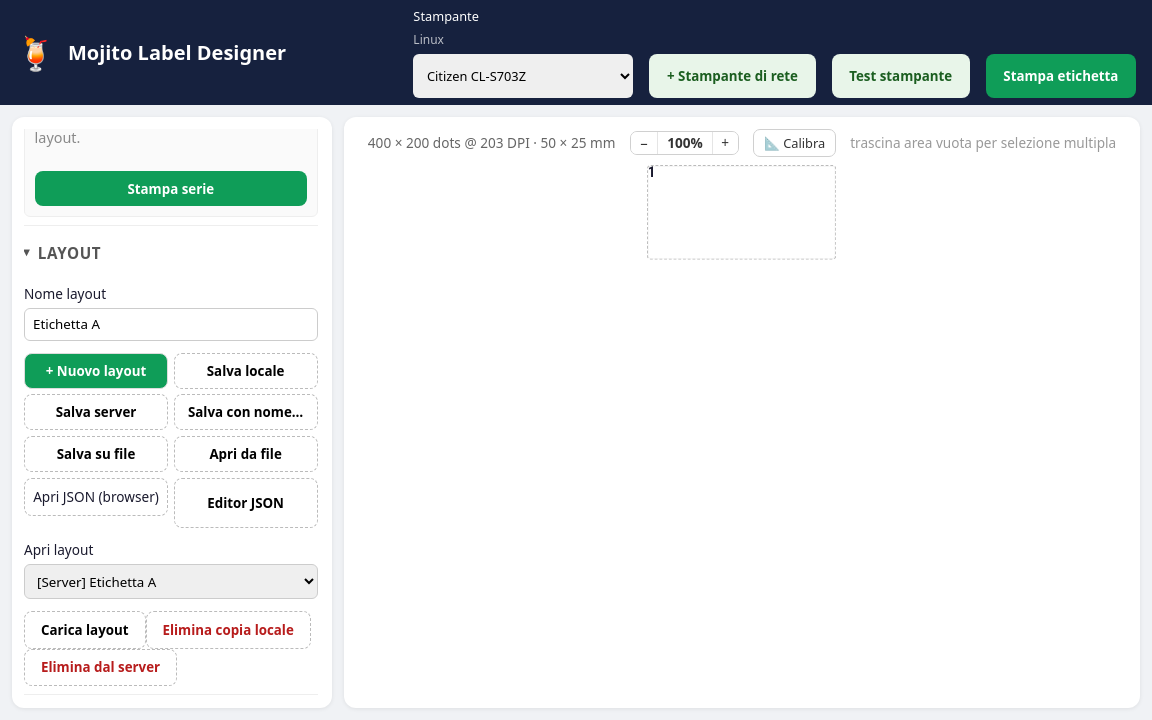
LabelDesigner — salvataggio senza sovrascrivere › "Salva con nome…" › propone un nome libero, salva una copia con identificativo nuovo e la apre
This screenshot has width=1152, height=720.
(page scrolled)
Click the button "Salva con nome…" at [246, 412], box [174,394,318,430]
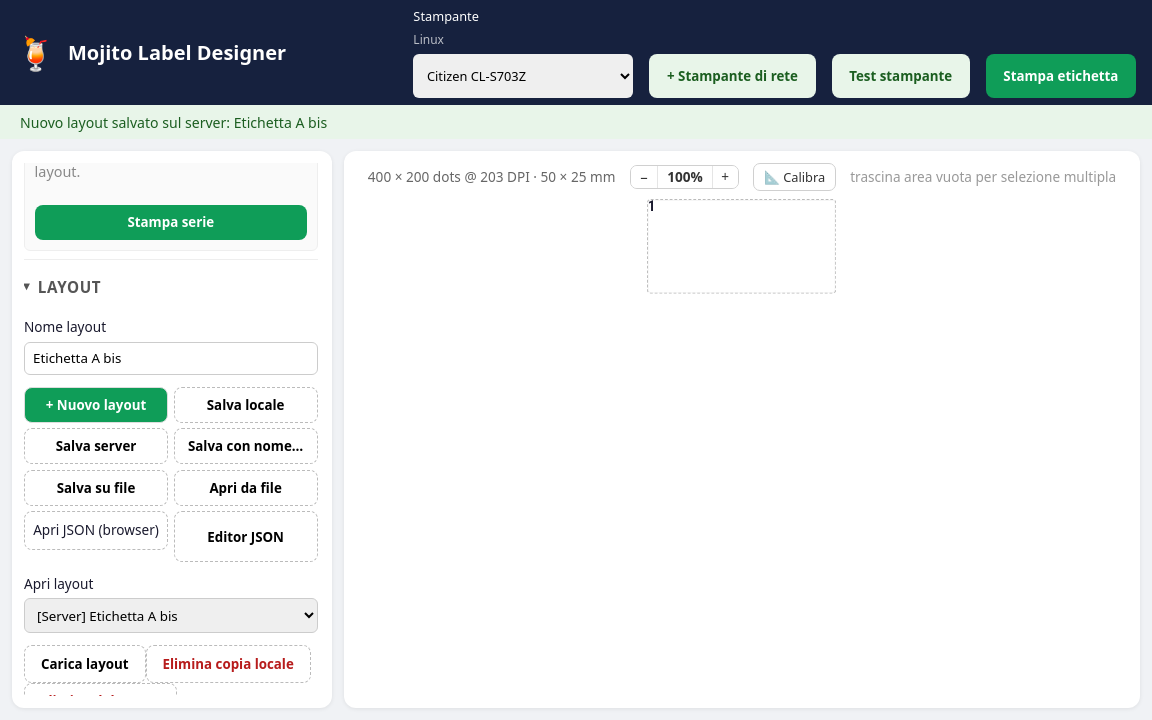
Check: the element with class "status" reads "Nuovo layout salvato sul server: Etichetta A bis", box [20,112,327,132]
